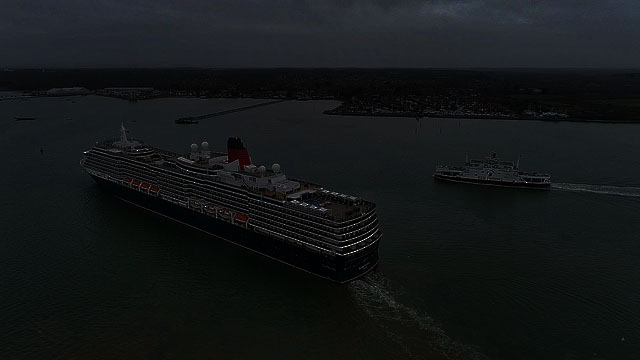boat: (432, 154, 554, 194)
cruise_ship: (79, 125, 381, 282)
